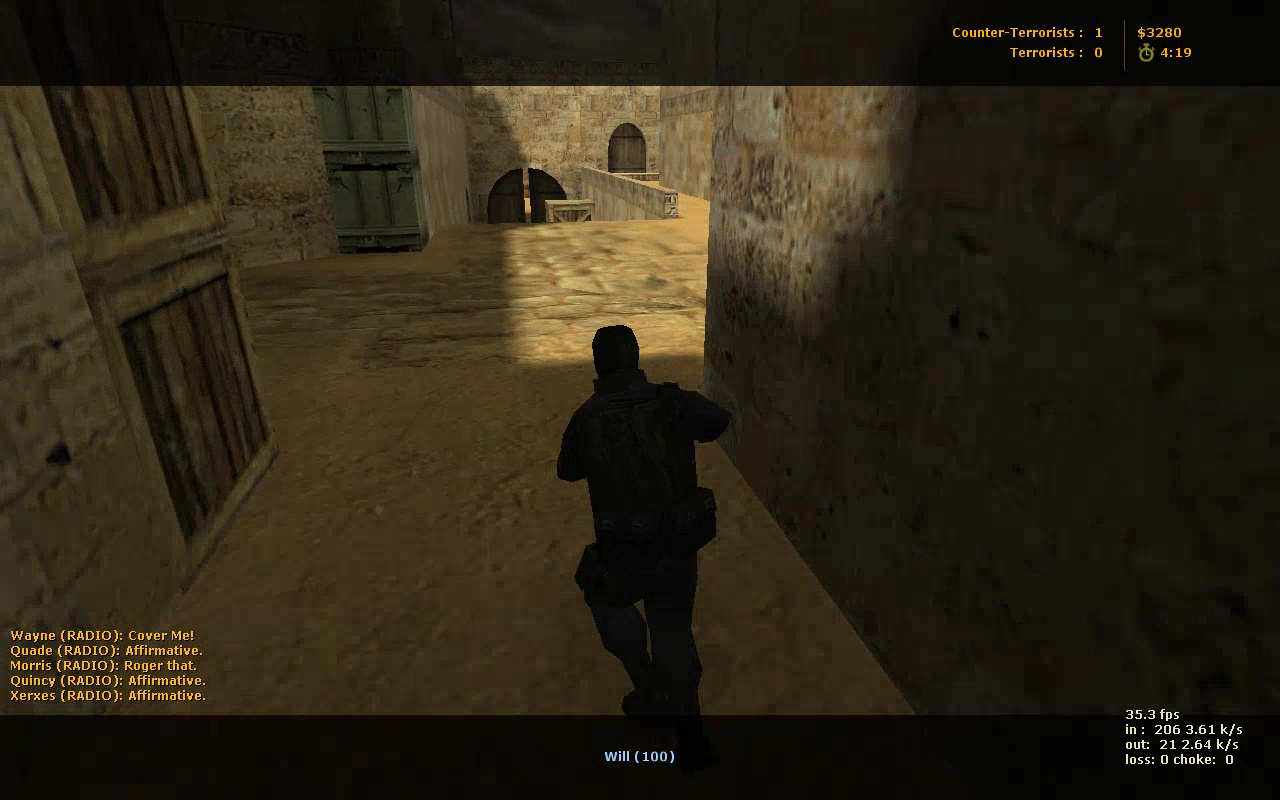ct: (553, 325, 733, 717)
